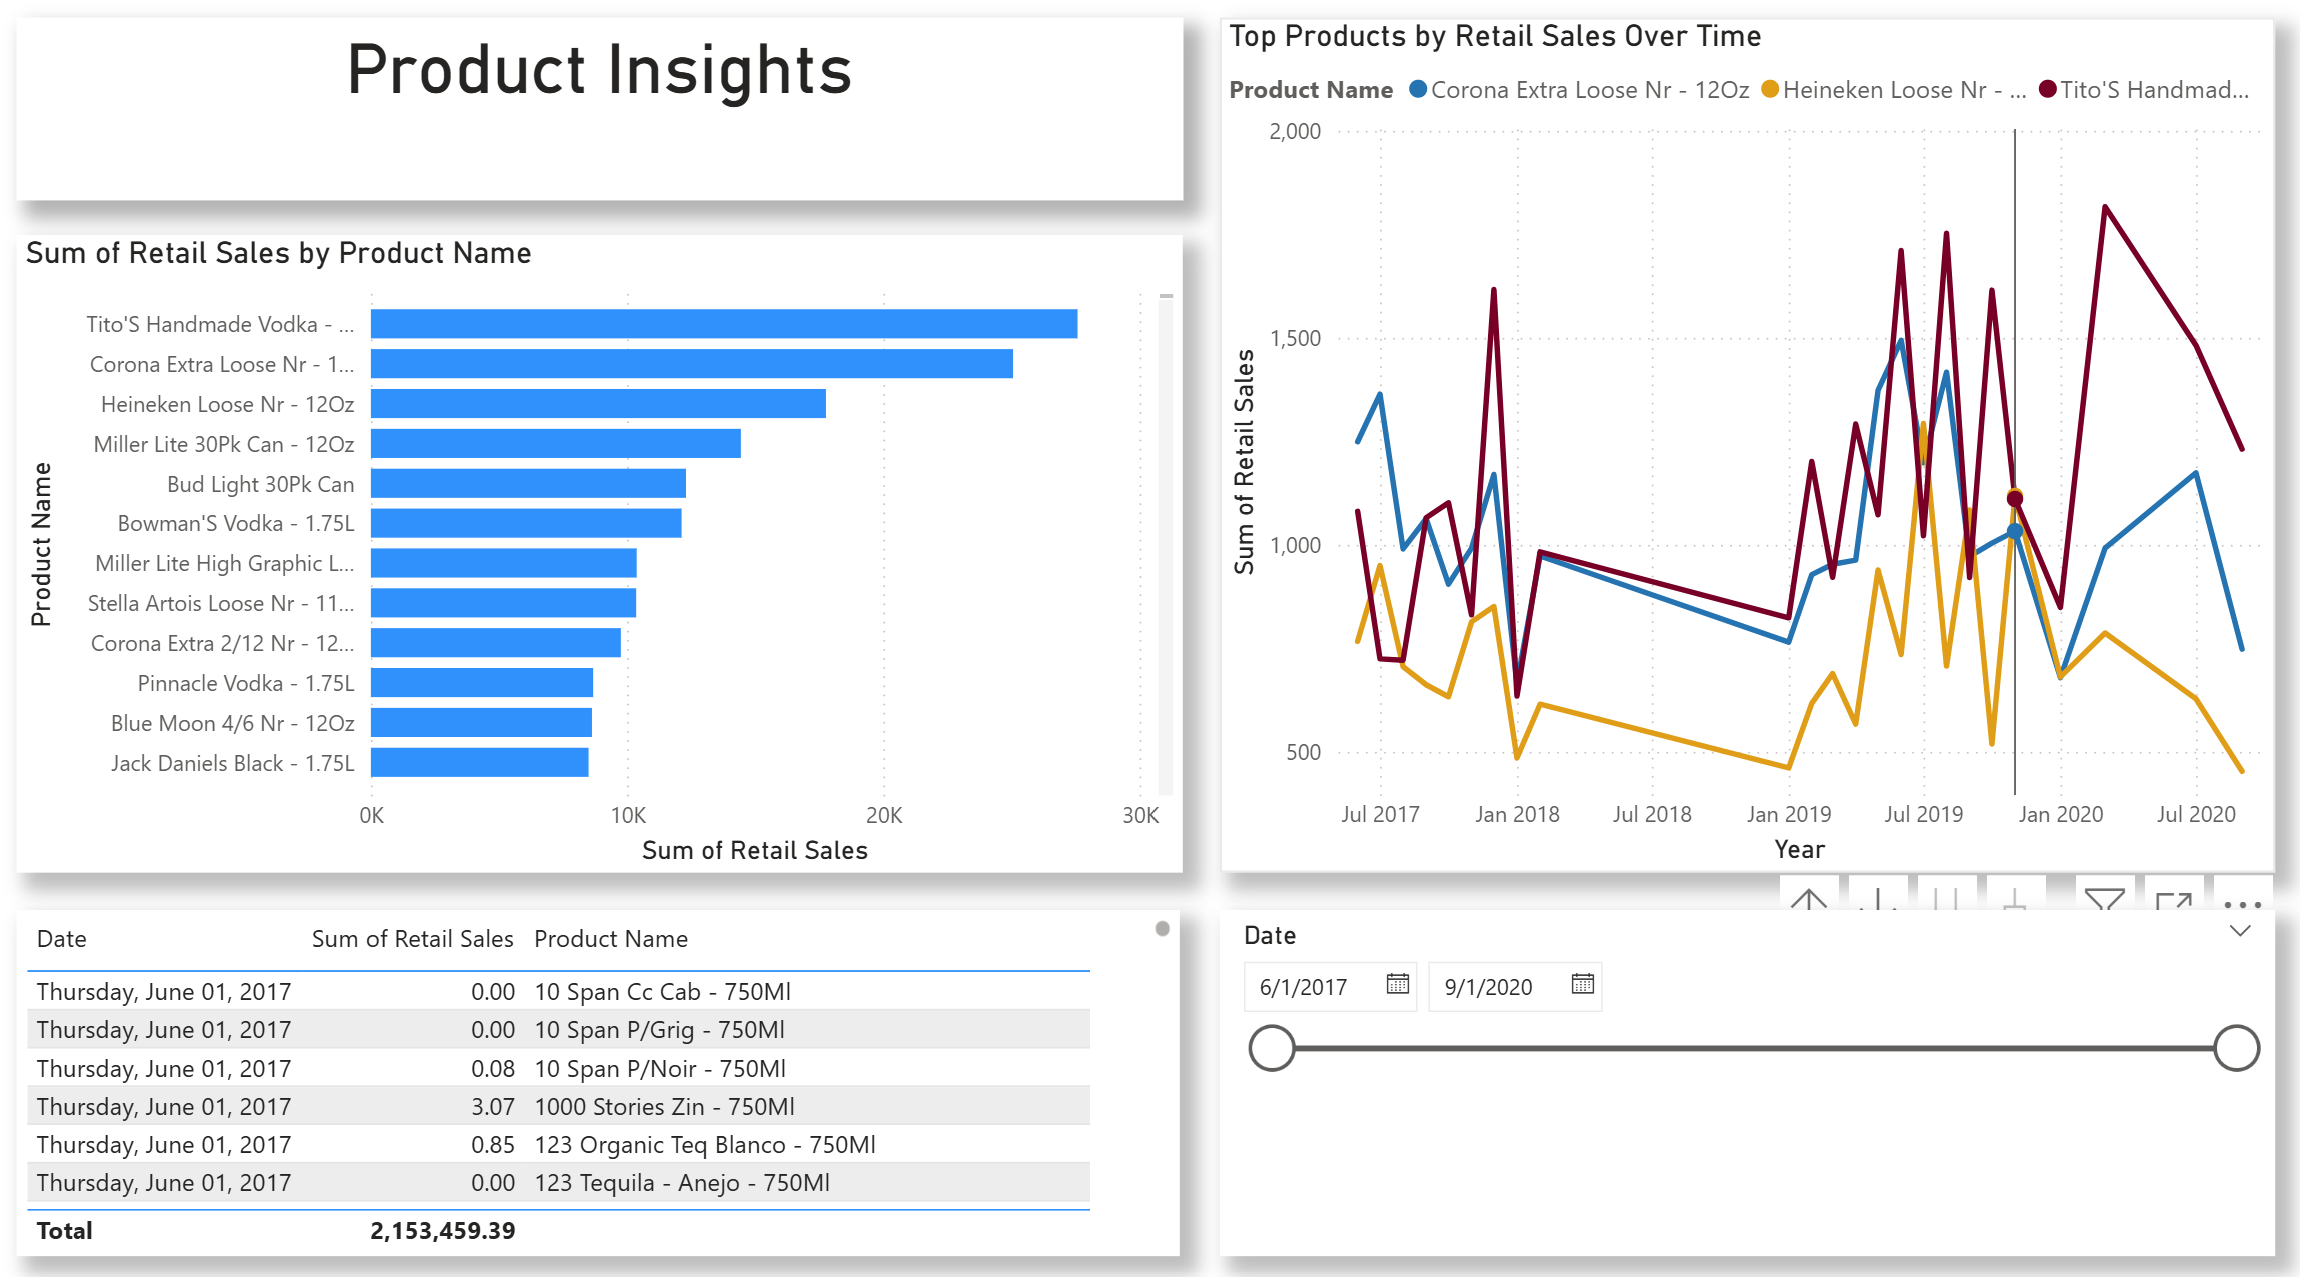

Layout of this report page (visuals, bound fields, positions):
{"tool":"powerbi","page":{"name":"Product Insights","canvas":[1280,720],"ordinal":3},"visuals":[{"type":"textbox","box":[20.2,20.2,640,100.2],"z":0},{"type":"barChart","fields":{"Category":["cleaned_alcohol_sales.item_description"],"Y":["Sum(cleaned_alcohol_sales.retail_sales)"]},"box":[20.6,140,639.5,350],"z":1},{"type":"tableEx","fields":{"Values":["cleaned_alcohol_sales.date","Sum(cleaned_alcohol_sales.retail_sales)","cleaned_alcohol_sales.item_description"]},"box":[20.6,510.5,638.1,190],"z":2},{"type":"lineChart","title":"Top Products by Retail Sales Over Time","fields":{"Y":["Sum(cleaned_alcohol_sales.retail_sales)"],"Category":["cleaned_alcohol_sales.date.Variation.Date Hierarchy.Year","cleaned_alcohol_sales.date.Variation.Date Hierarchy.Quarter","cleaned_alcohol_sales.date.Variation.Date Hierarchy.Month","cleaned_alcohol_sales.date.Variation.Date Hierarchy.Day"],"Series":["cleaned_alcohol_sales.item_description"]},"box":[680.6,20.6,579.1,469.3],"z":3},{"type":"slicer","fields":{"Values":["cleaned_alcohol_sales.date"]},"box":[681,510,579,190],"z":4}]}

Visuals, with their boxes in screenshot pixels (x1, y1, x2, y2), scaled from the page's 1280x720 canvas onto the 2300x1277 screenshot:
textbox: box(36, 36, 1186, 214)
barChart - cleaned_alcohol_sales.item_description x Sum(cleaned_alcohol_sales.retail_sales): box(37, 248, 1186, 869)
tableEx - cleaned_alcohol_sales.date x Sum(cleaned_alcohol_sales.retail_sales): box(37, 905, 1184, 1242)
"Top Products by Retail Sales Over Time" lineChart: box(1223, 37, 2264, 869)
slicer - cleaned_alcohol_sales.date: box(1224, 905, 2264, 1242)
